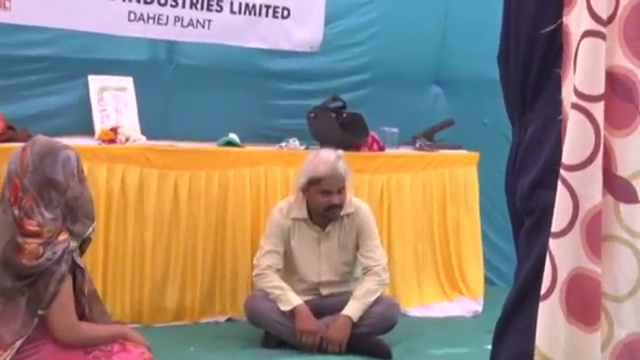helmet_off: (5, 140, 90, 241), (302, 152, 348, 223)
person: (1, 138, 158, 359), (241, 149, 400, 359), (494, 1, 567, 360)
